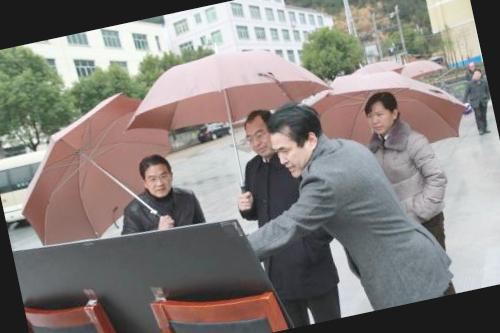no_helmet: (263, 100, 330, 176), (132, 147, 182, 204), (236, 102, 280, 160), (359, 87, 404, 139)
